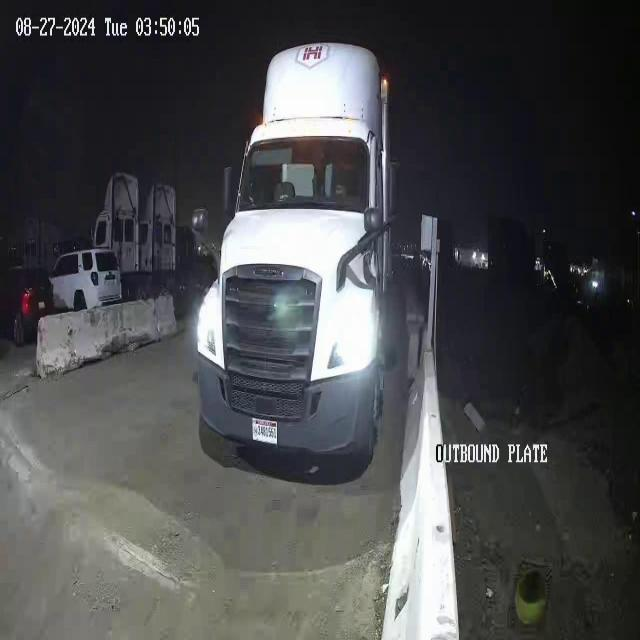TRUCK_OUT: (194, 40, 402, 480)
